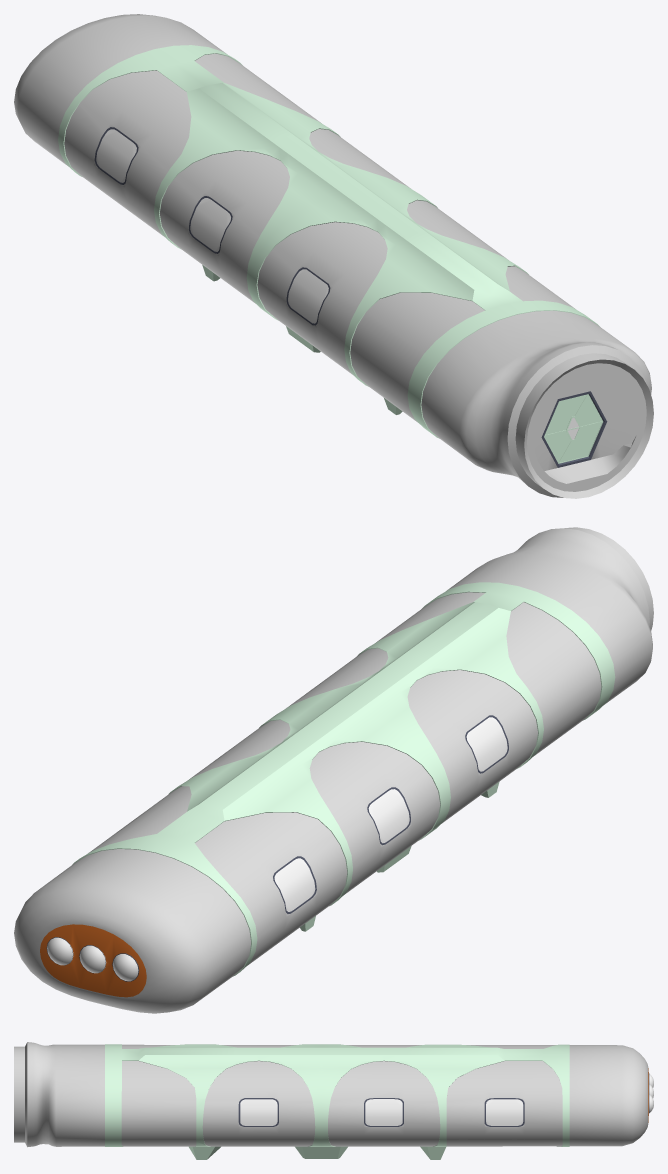
Rendered from Ground_Passenger_Pod.glb.
The picture shows the model from 3 angles, top to bottom: view 1: azimuth 30°, elevation 25°; view 2: azimuth 150°, elevation 25°; view 3: azimuth 270°, elevation 25°; orthographic projection. The views are drawn at different scales.
Visible parts, largest first — view 1: PassengerPod, PassengerPod-Windows, AirlockDoor_PassengerPod; view 2: PassengerPod, PassengerPod-Windows; view 3: PassengerPod, PassengerPod-Windows.
Boxes of the visible parts, box(x1,y1,x2,y2) form: PassengerPod: box(14, 14, 653, 498); PassengerPod-Windows: box(96, 129, 328, 323); AirlockDoor_PassengerPod: box(544, 394, 603, 463); PassengerPod: box(14, 527, 653, 1013); PassengerPod-Windows: box(47, 717, 507, 981); PassengerPod: box(14, 1042, 649, 1159); PassengerPod-Windows: box(240, 1074, 653, 1125).
Size of the model in its own units: 0.6047 by 0.455 by 2.7.
